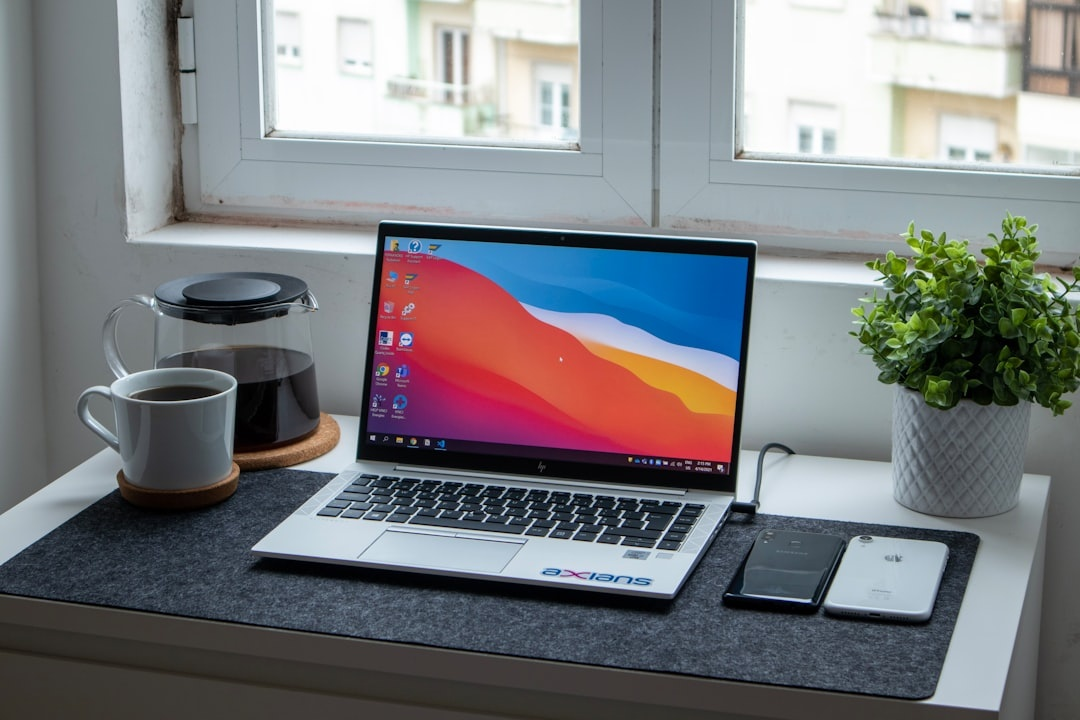laptop: (242, 211, 758, 596)
